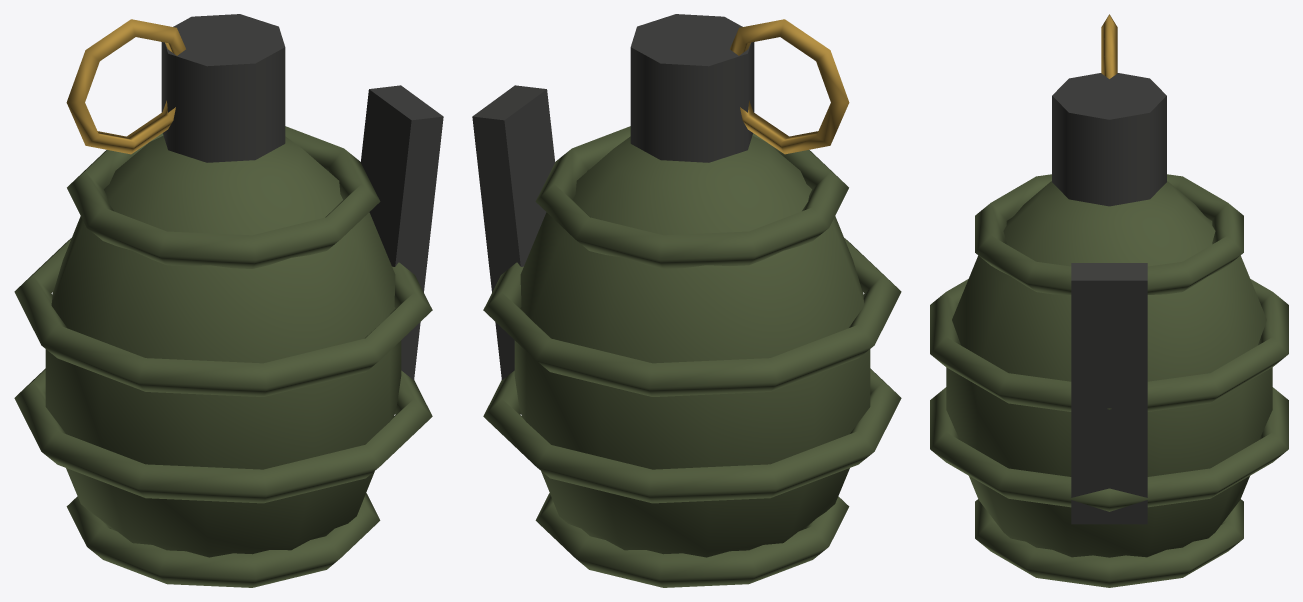
File: grenade.glb
3 renders of one model, left to right at view 1: azimuth 30°, elevation 25°; view 2: azimuth 150°, elevation 25°; view 3: azimuth 270°, elevation 25°, orthographic. The views are drawn at different scales.
Parts seen in each view (by area): view 1: grenade; view 2: grenade; view 3: grenade.
Boxes of the visible parts, box(x1,y1,x2,y2) form: grenade: box(14, 14, 443, 587); grenade: box(472, 14, 901, 587); grenade: box(930, 14, 1288, 587).
Size of the model in its own units: 0.0825 by 0.1195 by 0.0751.
